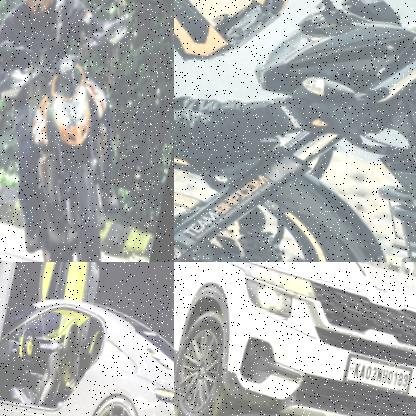bike: (174, 0, 416, 262), (1, 32, 150, 262)
car: (174, 262, 416, 416), (0, 262, 174, 416)
